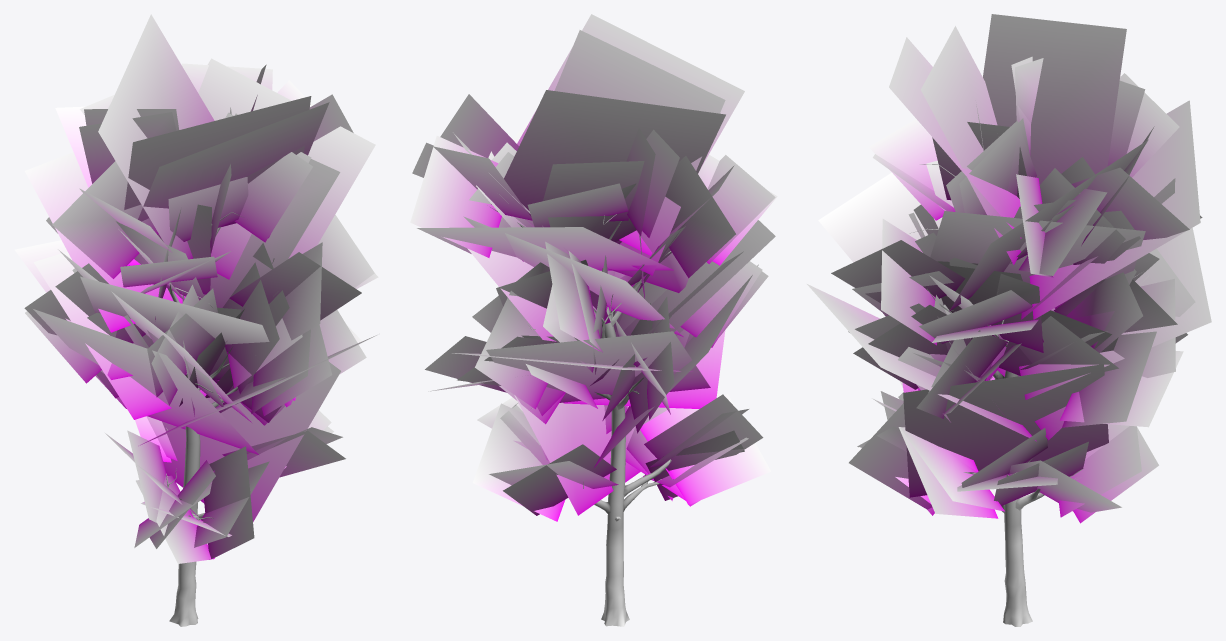
File: Tree_A.FBX
3 renders of one model, left to right at view 1: azimuth 30°, elevation 25°; view 2: azimuth 150°, elevation 25°; view 3: azimuth 270°, elevation 25°, orthographic. The views are drawn at different scales.
Parts seen in each view (by area): view 1: Tree_A; view 2: Tree_A; view 3: Tree_A.
Part boxes in pixels (x1,y1,x2,y2): Tree_A: [14, 14, 378, 626]; Tree_A: [410, 14, 777, 626]; Tree_A: [807, 14, 1211, 626].
Size of what is drawn, in the model's own units: 685 by 1158 by 709.
